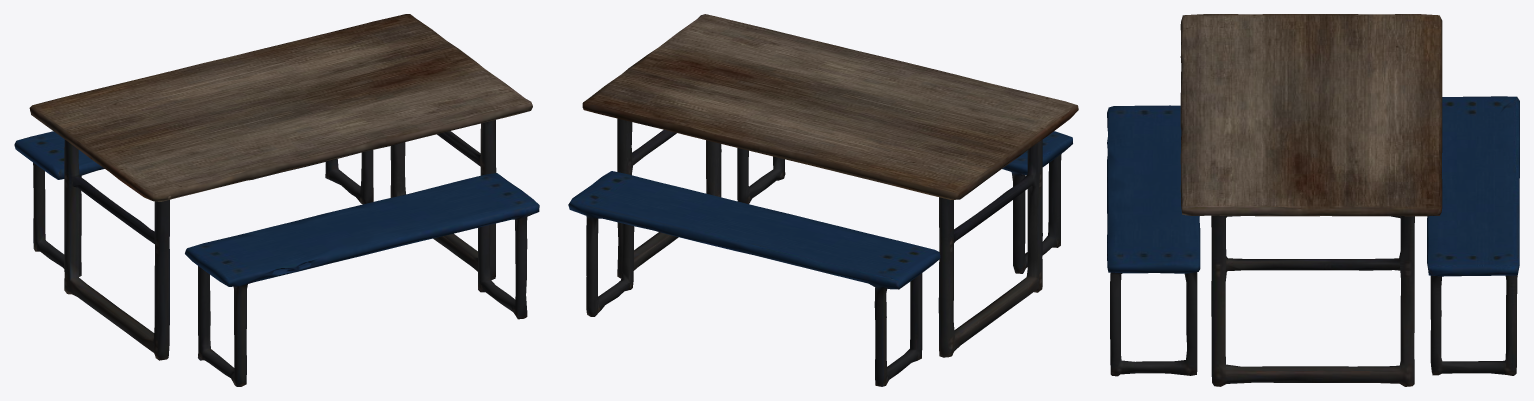
Rendered from lounge_table_set.glb.
3 renders of one model, left to right at view 1: azimuth 30°, elevation 25°; view 2: azimuth 150°, elevation 25°; view 3: azimuth 270°, elevation 25°, orthographic. The views are drawn at different scales.
Size of the model in its own units: 1.01 by 0.4616 by 0.8996.
1 material, 1 textured.
